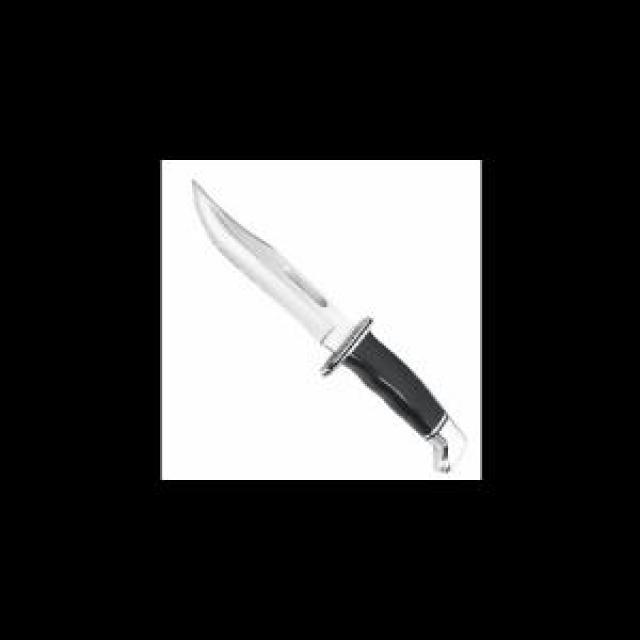knife: (190, 181, 469, 474)
